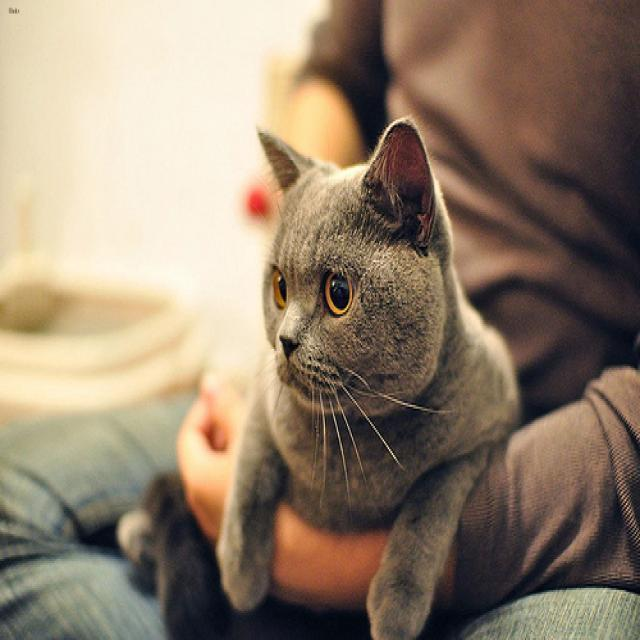British_Shorthair: (256, 114, 444, 409)
